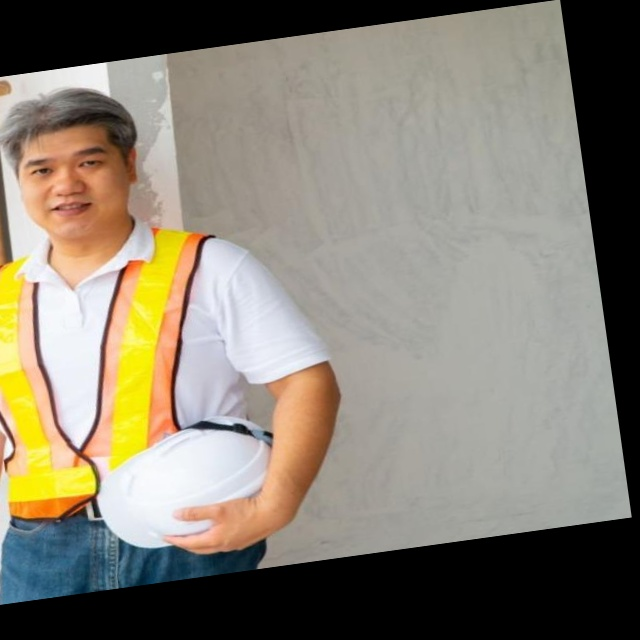Con_Chaleco: (0, 220, 260, 542)
Sin_Casco_Mascarrilla: (0, 79, 150, 245)
